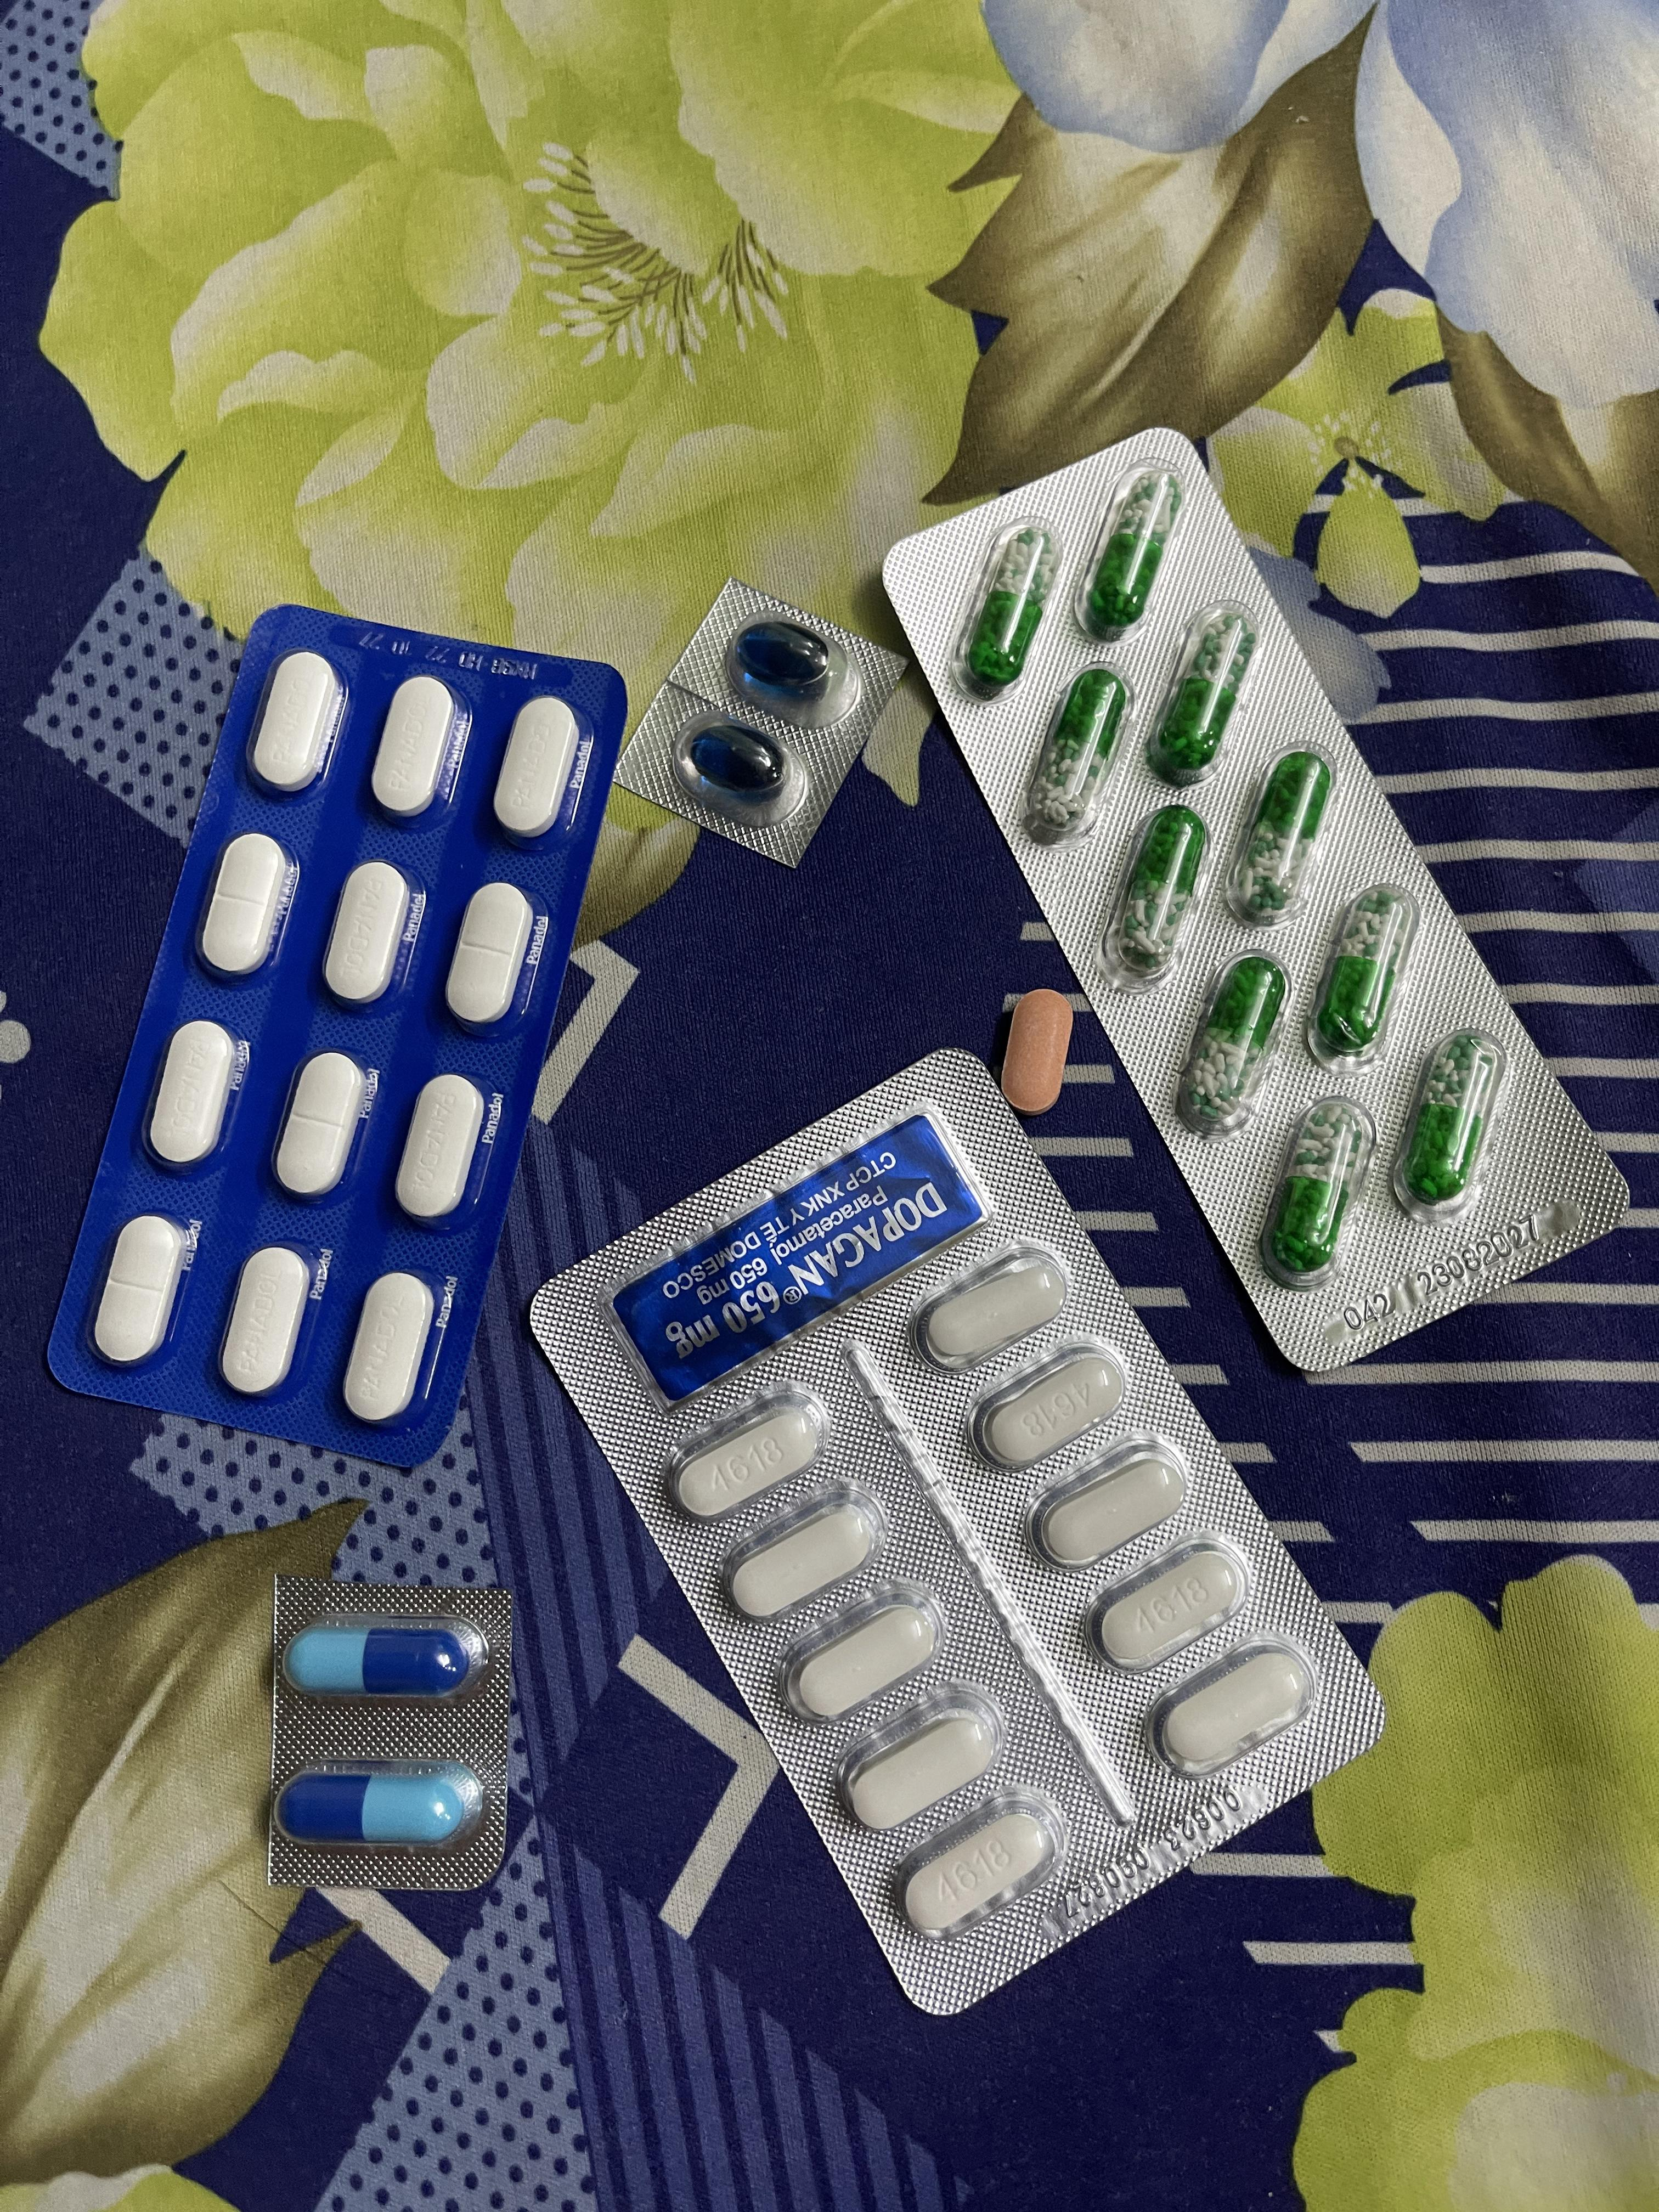Lincomyxin_500mg: (735, 622, 831, 691), (690, 726, 784, 792)
Loratadine_10mg: (1000, 989, 1075, 1115)
Paracetamol_350mg: (343, 1273, 437, 1426), (220, 1247, 314, 1399), (91, 1214, 185, 1366), (274, 1049, 368, 1200), (145, 1021, 239, 1172), (394, 1075, 488, 1224), (249, 651, 343, 794), (446, 881, 537, 1029), (493, 697, 584, 843), (199, 834, 291, 977), (322, 860, 413, 1005), (369, 676, 460, 819)
Paracetamol_500mg: (836, 1683, 1011, 1832), (667, 1385, 830, 1531), (1026, 1432, 1194, 1573), (1080, 1527, 1246, 1663), (969, 1338, 1127, 1477), (788, 1599, 938, 1723), (906, 1811, 1051, 1939), (730, 1500, 878, 1618), (1164, 1648, 1305, 1771), (927, 1261, 1058, 1364)
Paracetamol_650mg: (1023, 669, 1134, 840), (1185, 960, 1284, 1125), (1152, 620, 1251, 780), (1272, 1106, 1363, 1270), (965, 526, 1054, 690), (1401, 1042, 1492, 1202), (1087, 472, 1178, 632), (1112, 812, 1202, 967), (1317, 890, 1405, 1049), (1236, 758, 1326, 907)
pill: (272, 1766, 486, 1848), (282, 1623, 488, 1702)
